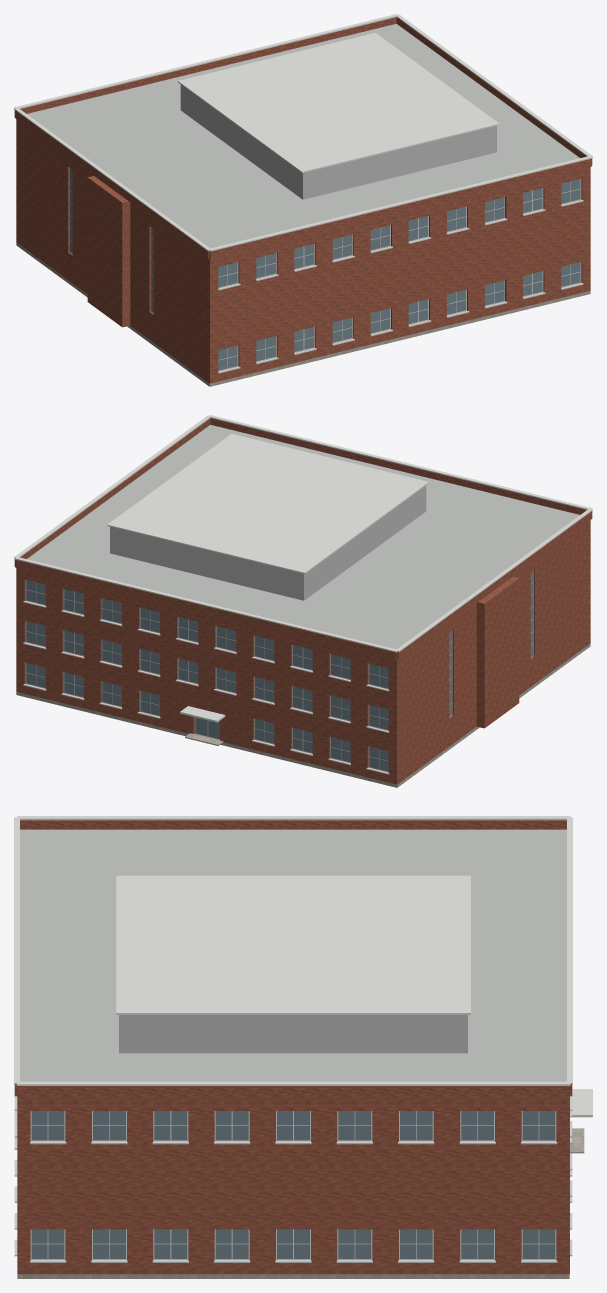
The picture shows the model from 3 angles, top to bottom: view 1: azimuth 30°, elevation 25°; view 2: azimuth 150°, elevation 25°; view 3: azimuth 270°, elevation 25°; orthographic projection. The views are drawn at different scales.
Visible parts, largest first — view 1: aud-west__brick, aud-west__greyroof, aud-west__cap, aud-west__glass, aud-west__whiteframe, aud-west__stone, aud-west__sill, aud-west__slitglass; view 2: aud-west__brick, aud-west__greyroof, aud-west__cap, aud-west__glass, aud-west__whiteframe, aud-west__stone, aud-west__sill, aud-west__slitglass; view 3: aud-west__brick, aud-west__greyroof, aud-west__cap, aud-west__glass, aud-west__whiteframe, aud-west__sill, aud-west__stone.
Boxes of the visible parts, box(x1,y1,x2,y2) form: aud-west__brick: box(14, 17, 592, 383); aud-west__greyroof: box(27, 24, 579, 248); aud-west__cap: box(14, 14, 592, 251); aud-west__glass: box(218, 179, 580, 370); aud-west__whiteframe: box(69, 168, 581, 371); aud-west__stone: box(16, 242, 590, 386); aud-west__sill: box(217, 200, 583, 373); aud-west__slitglass: box(70, 168, 153, 312); aud-west__brick: box(14, 418, 592, 784); aud-west__greyroof: box(27, 425, 579, 649); aud-west__cap: box(14, 415, 592, 722); aud-west__glass: box(26, 580, 388, 771); aud-west__whiteframe: box(25, 571, 533, 772); aud-west__stone: box(16, 643, 590, 787); aud-west__sill: box(23, 601, 389, 774); aud-west__slitglass: box(449, 572, 533, 716); aud-west__brick: box(14, 820, 572, 1274); aud-west__greyroof: box(20, 829, 566, 1081); aud-west__cap: box(14, 816, 592, 1117); aud-west__glass: box(31, 1111, 555, 1258); aud-west__whiteframe: box(30, 1111, 556, 1259); aud-west__sill: box(14, 1096, 572, 1262); aud-west__stone: box(17, 1274, 569, 1278).
Bounding box in the file's own units: 44.33 × 17.19 × 39.83.
10 materials, 2 textured.
